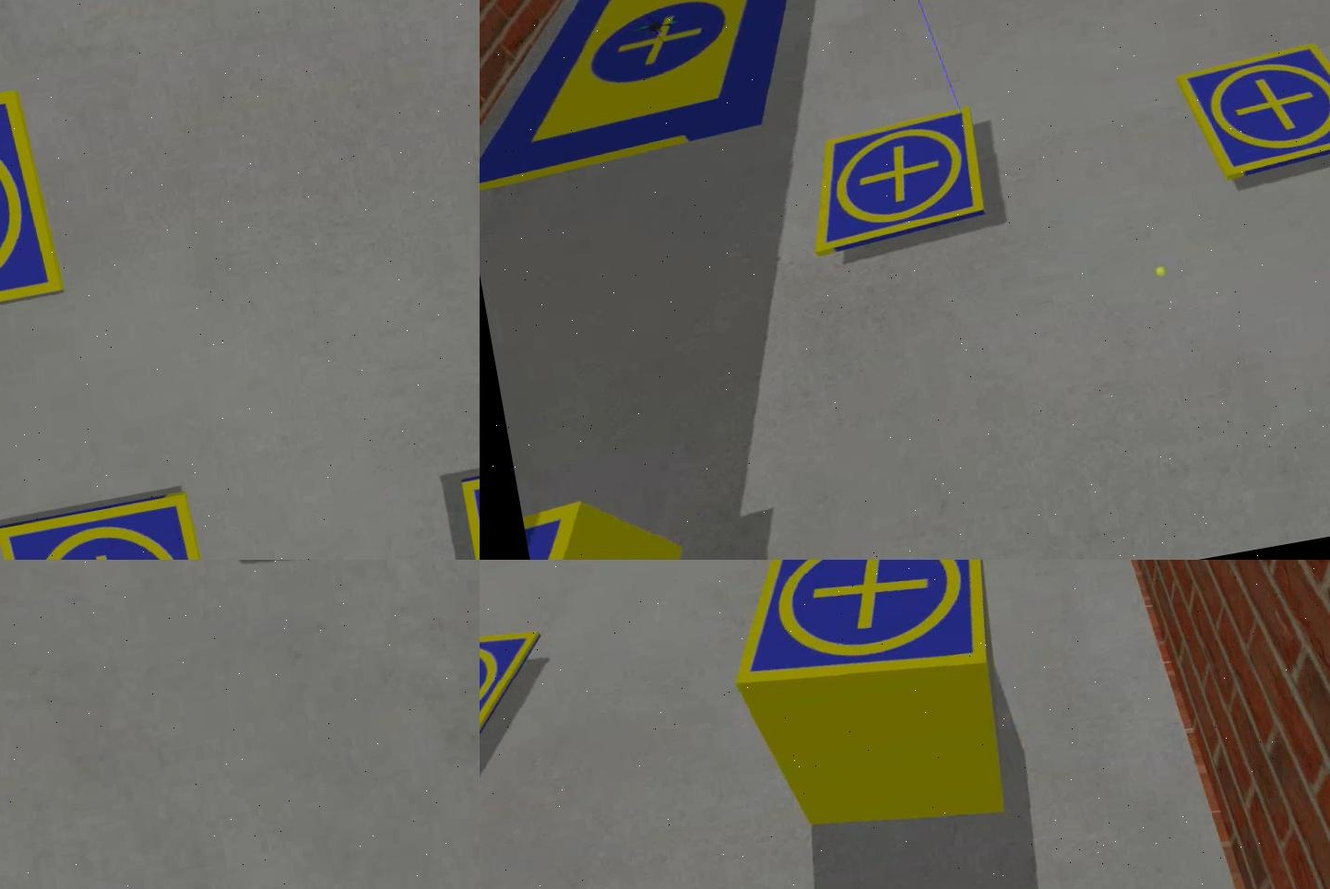large_base: (479, 1, 832, 194)
small_base: (710, 561, 1003, 709), (792, 104, 996, 260), (1175, 35, 1328, 196), (0, 83, 68, 338), (0, 487, 227, 561), (479, 616, 558, 783)
